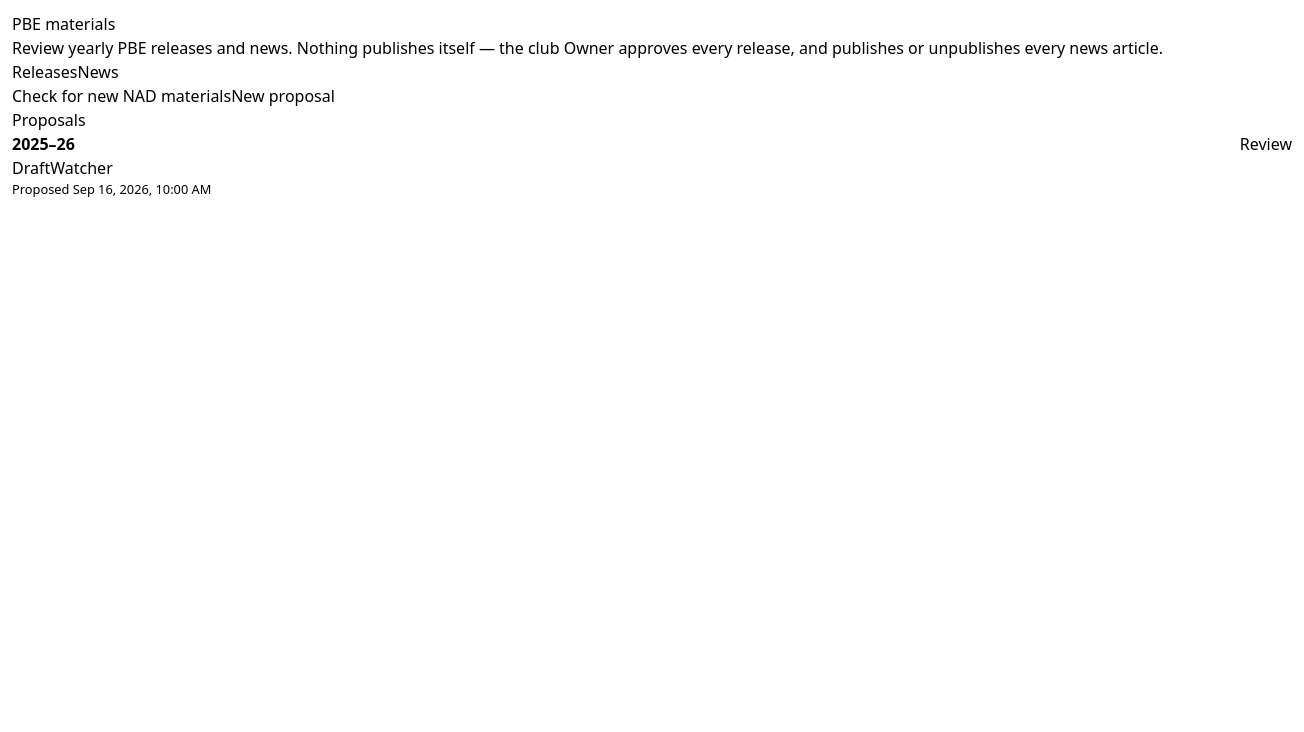
Test: shows the full proposal detail with roster, commentary, sources, and diff
What coordinates should you click on to do the following:
click the button "Review"
I would click on:
 (1266, 144)
Its box is [1240,132,1292,156].
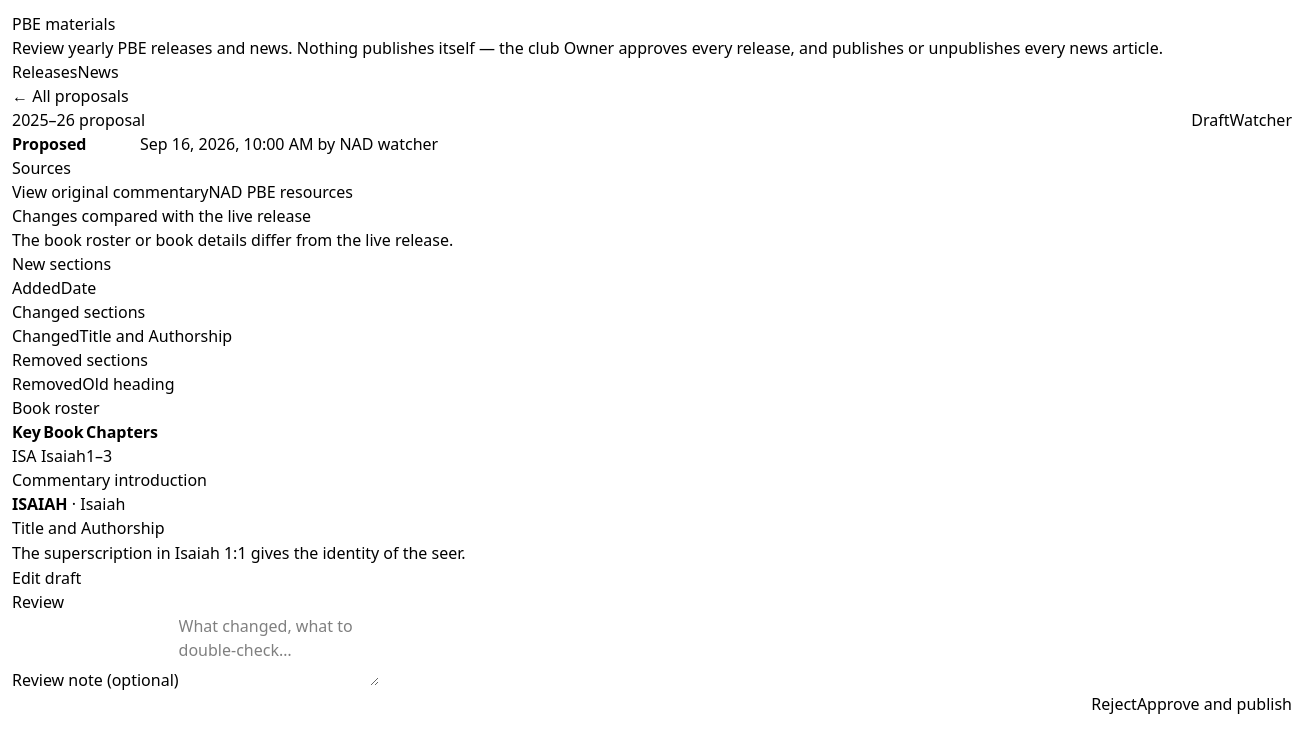
Now the heading "2025–26 proposal" is shown, box [12,108,145,132]
Now the text "The superscription in Isaiah 1:1 gives the identity of the seer." is shown, box [12,542,466,564]
Now the text "Isaiah" is shown, box [41,444,86,468]
